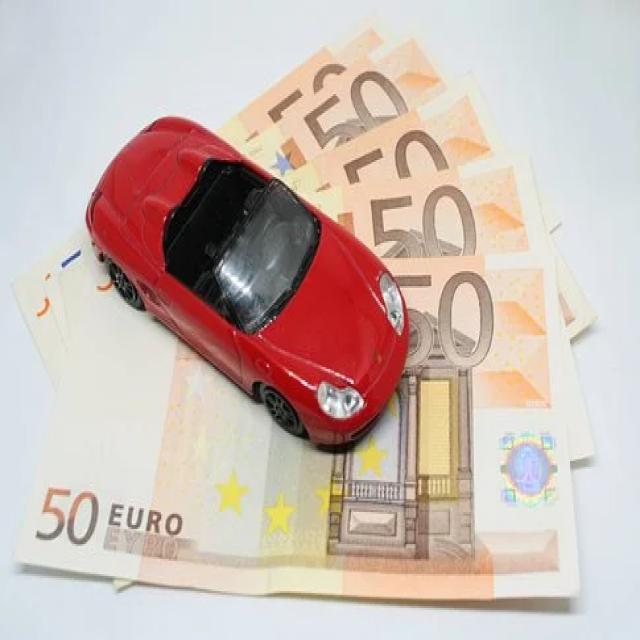Car: (83, 113, 409, 448)
